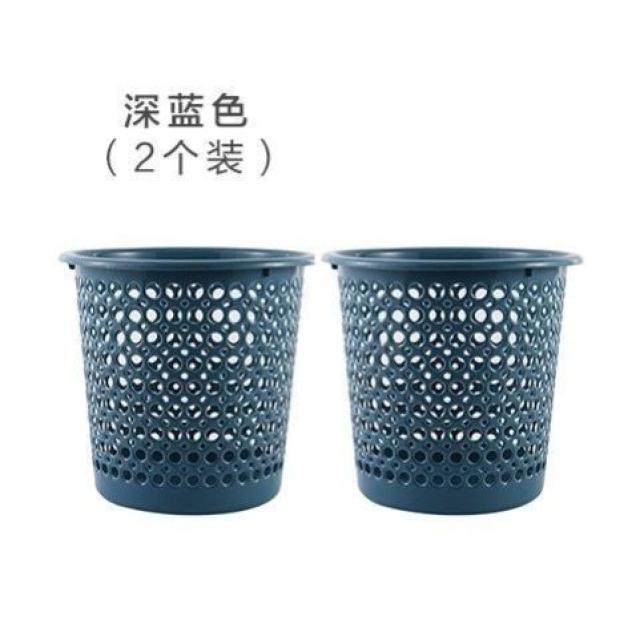dustbin: (322, 238, 589, 520), (57, 237, 320, 519)
